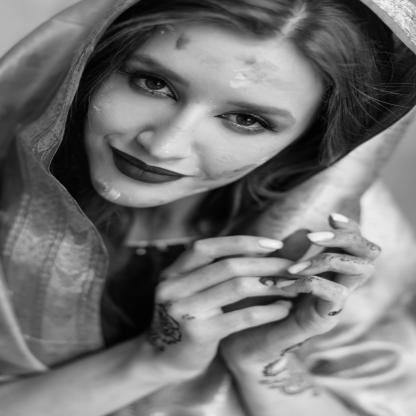Eye: (123, 71, 178, 102), (214, 112, 279, 134)
Mouth: (109, 144, 197, 184)
Nose: (137, 108, 210, 161)
